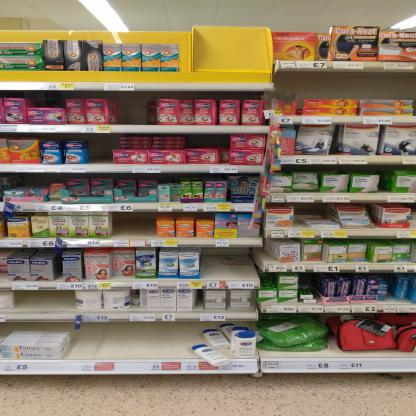Void: (281, 70, 416, 100), (74, 327, 186, 354), (208, 247, 254, 277), (115, 211, 156, 239), (18, 292, 70, 311), (116, 96, 151, 122), (186, 134, 226, 150), (89, 136, 111, 162), (30, 92, 63, 107), (292, 205, 328, 218), (17, 174, 51, 187)
